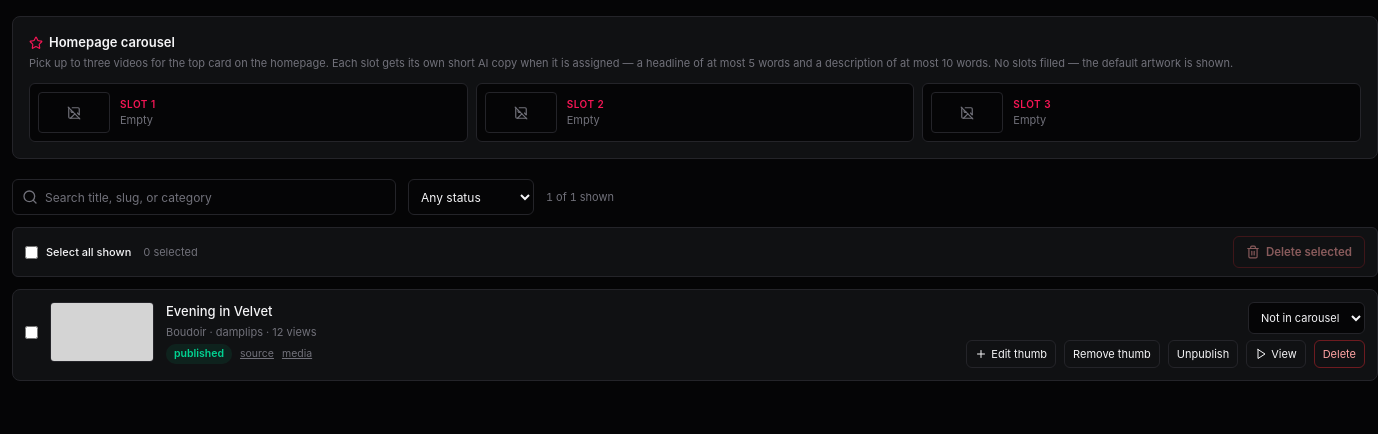
VideoManager › saves a replacement thumbnail URL
Click the button "Edit thumb" at (1011, 354), box x1=966 y1=340 x2=1056 y2=368
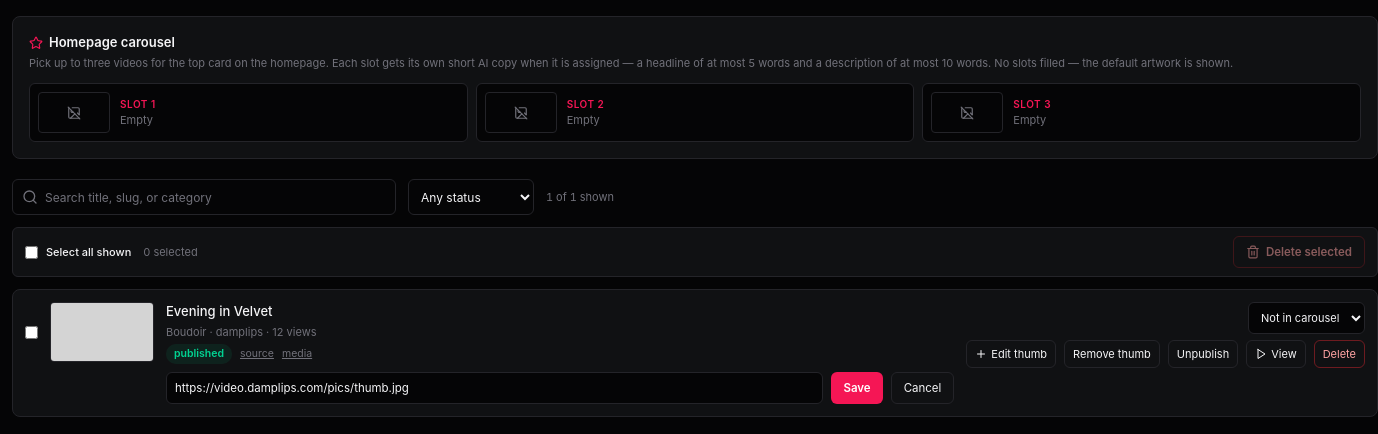
Replace the text in the field named "Thumbnail URL for Evening in Velvet" with "https://video.damplips.com/new.jpg" at (495, 388), box x1=166 y1=372 x2=823 y2=404
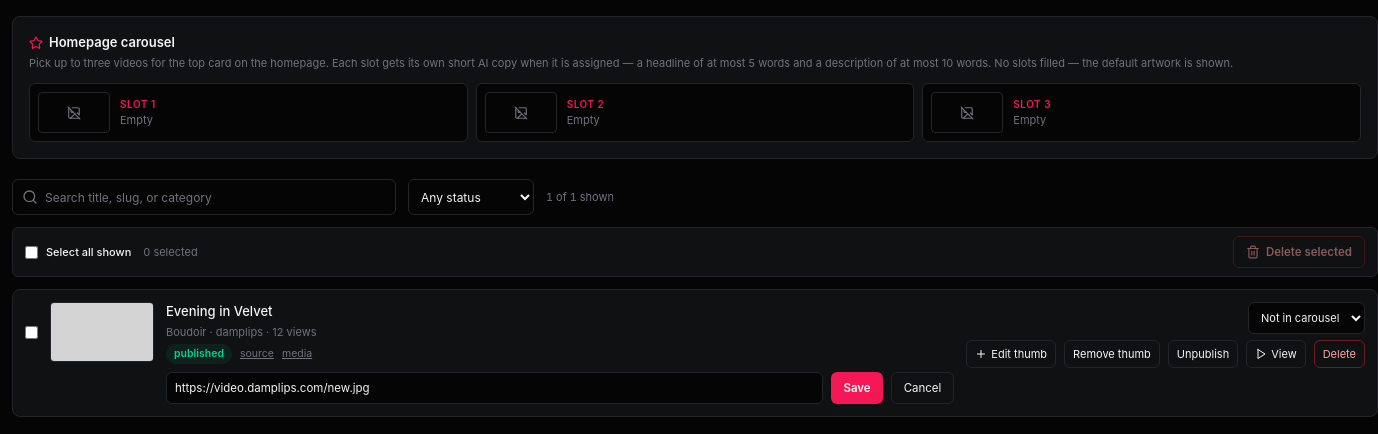
Click the button "Save" at (857, 388), box x1=831 y1=372 x2=883 y2=404
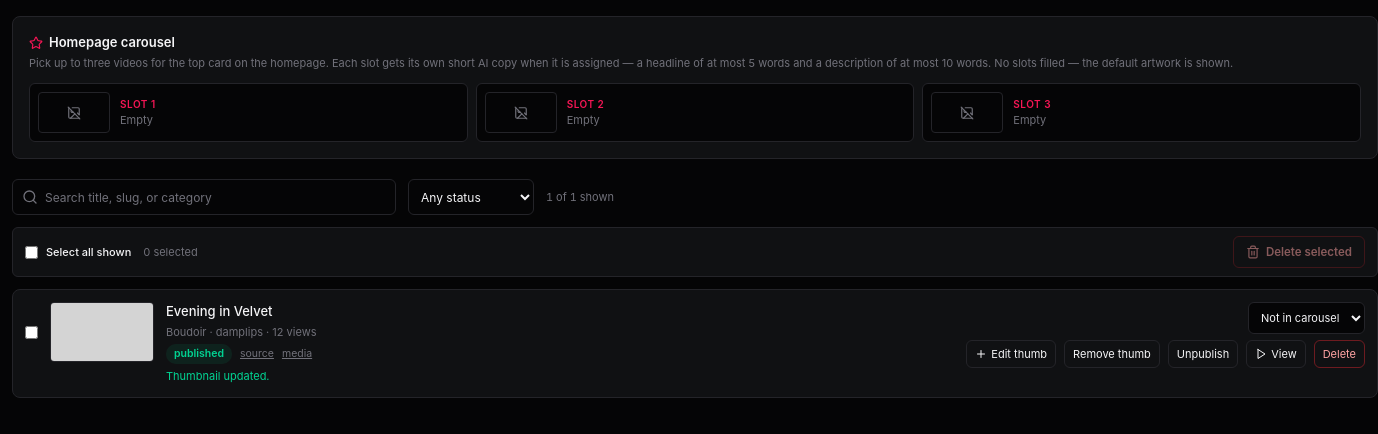
Result: the text "Thumbnail updated." is shown at x1=166 y1=369 x2=270 y2=383
